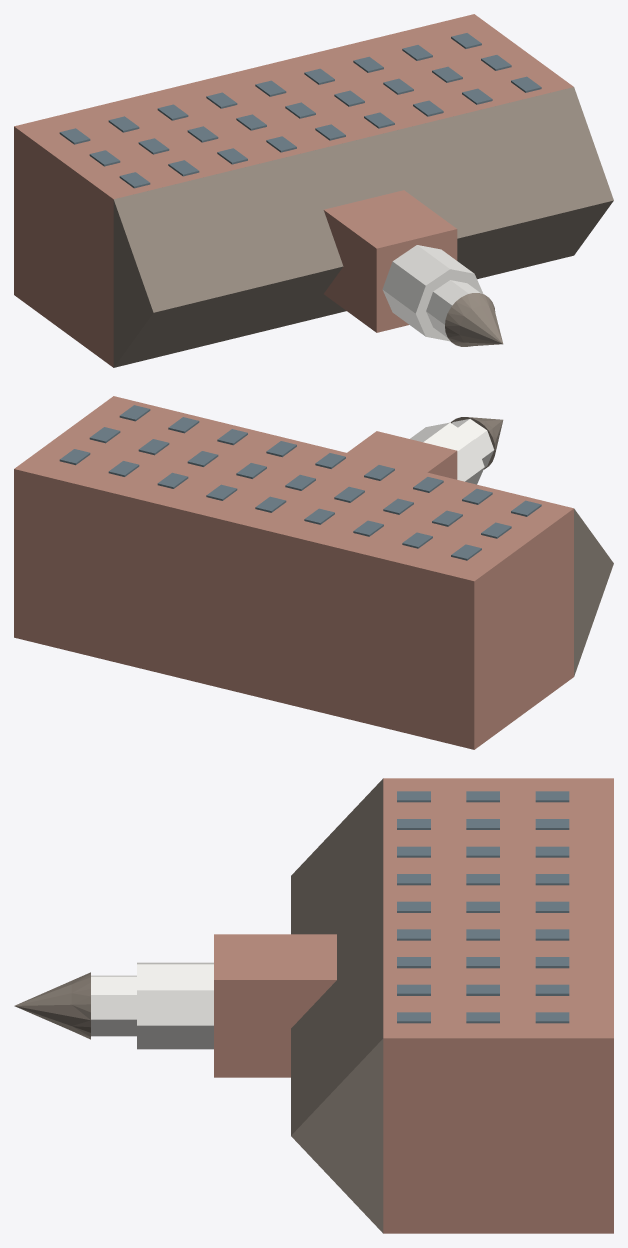
The model's file is r-125-harvard-house-bell-tower.glb.
3 renders of one model, top to bottom at view 1: azimuth 30°, elevation 25°; view 2: azimuth 150°, elevation 25°; view 3: azimuth 270°, elevation 25°, orthographic. The views are drawn at different scales.
Parts seen in each view (by area): view 1: roof, brick, windows, cupola; view 2: brick, windows, roof, cupola; view 3: brick, roof, windows, cupola.
Boxes of the visible parts, x1=… form: roof: x1=113, y1=87, x2=613, y2=367; brick: x1=14, y1=14, x2=573, y2=367; windows: x1=59, y1=33, x2=541, y2=188; cupola: x1=382, y1=245, x2=483, y2=341; brick: x1=14, y1=396, x2=573, y2=749; windows: x1=59, y1=405, x2=541, y2=560; roof: x1=450, y1=417, x2=613, y2=676; cupola: x1=410, y1=419, x2=494, y2=484; brick: x1=214, y1=778, x2=613, y2=1233; roof: x1=14, y1=778, x2=383, y2=1233; windows: x1=397, y1=791, x2=569, y2=1023; cupola: x1=91, y1=962, x2=213, y2=1049.
Bounding box in the file's own units: 40000 × 14150 × 39001.
